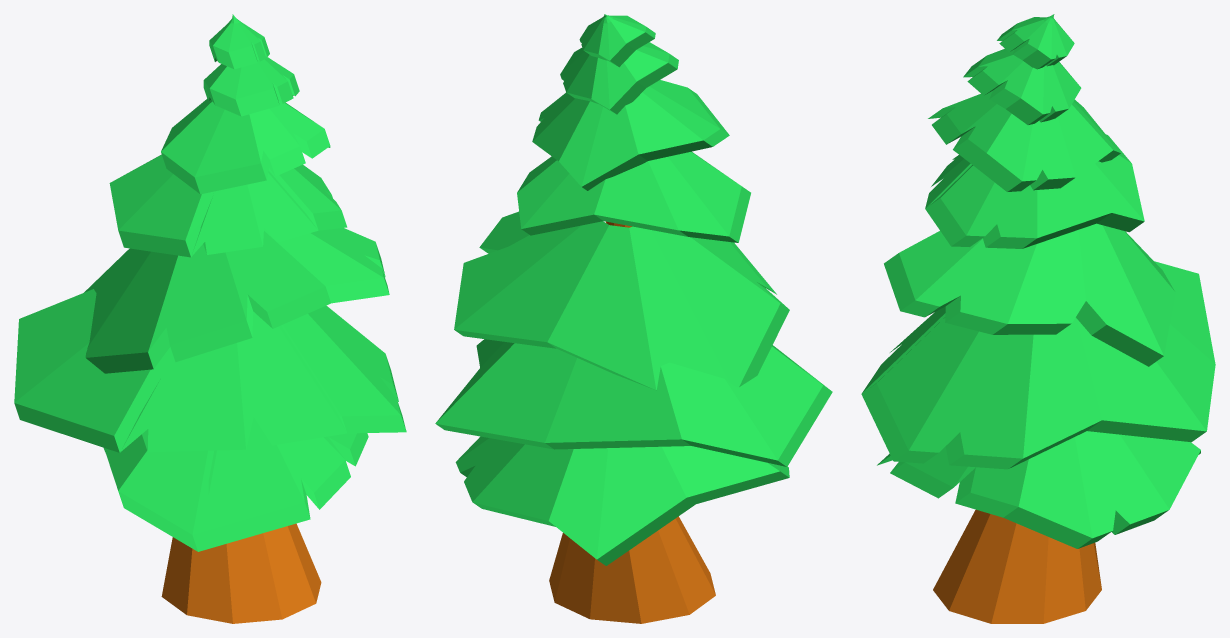
File: Tree_7.fbx
The picture shows the model from 3 angles, left to right: view 1: azimuth 30°, elevation 25°; view 2: azimuth 150°, elevation 25°; view 3: azimuth 270°, elevation 25°; orthographic projection. The views are drawn at different scales.
Visible parts, largest first — view 1: Cylinder.017, Cylinder.018, Cylinder.016, Cylinder.019, Cylinder.013, Cylinder.020, Cylinder.021, Cylinder.022; view 2: Cylinder.018, Cylinder.017, Cylinder.016, Cylinder.019, Cylinder.020, Cylinder.013, Cylinder.021, Cylinder.022; view 3: Cylinder.017, Cylinder.018, Cylinder.016, Cylinder.013, Cylinder.019, Cylinder.020, Cylinder.021, Cylinder.022.
Part boxes in pixels (box(x1,y1,x2,y2)): Cylinder.017: box(14, 289, 406, 452); Cylinder.018: box(84, 227, 389, 373); Cylinder.016: box(103, 417, 368, 551); Cylinder.019: box(109, 154, 347, 257); Cylinder.013: box(161, 523, 321, 623); Cylinder.020: box(161, 98, 330, 194); Cylinder.021: box(203, 56, 299, 116); Cylinder.022: box(209, 14, 269, 69); Cylinder.018: box(454, 211, 789, 390); Cylinder.017: box(435, 339, 832, 466); Cylinder.016: box(455, 436, 789, 565); Cylinder.019: box(517, 151, 750, 242); Cylinder.020: box(532, 80, 729, 190); Cylinder.013: box(549, 221, 715, 623); Cylinder.021: box(560, 42, 678, 114); Cylinder.022: box(579, 14, 655, 67); Cylinder.017: box(861, 261, 1215, 469); Cylinder.018: box(884, 223, 1175, 366); Cylinder.016: box(877, 431, 1200, 548); Cylinder.013: box(933, 509, 1101, 623); Cylinder.019: box(925, 134, 1144, 248); Cylinder.020: box(928, 91, 1120, 191); Cylinder.021: box(963, 49, 1081, 124); Cylinder.022: box(997, 14, 1074, 69).
Size of the model in its own units: 3010 by 4862 by 2689.
